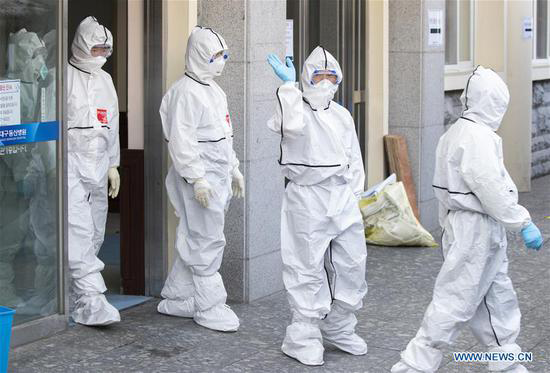Coverall: (396, 63, 544, 373), (274, 43, 369, 351), (159, 22, 239, 307), (65, 16, 125, 314)
Gloves: (264, 52, 297, 85), (192, 179, 215, 210), (521, 223, 543, 251), (104, 164, 121, 197)
with_mask: (308, 71, 339, 106)
